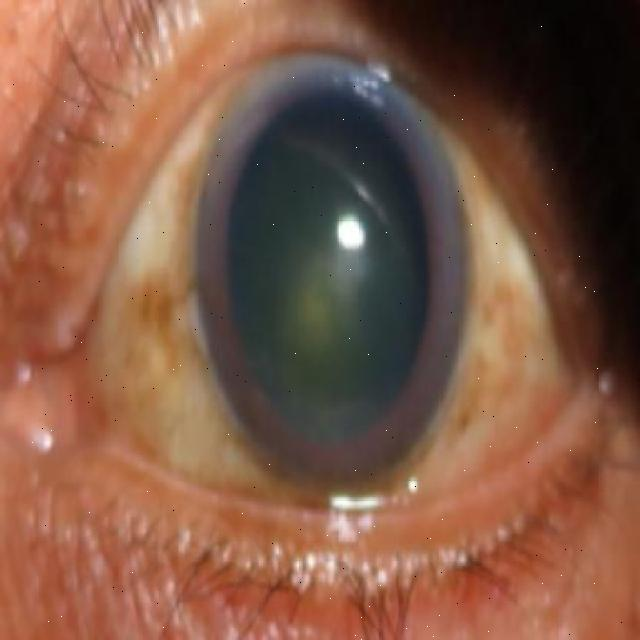Cataract: (197, 47, 471, 480)
